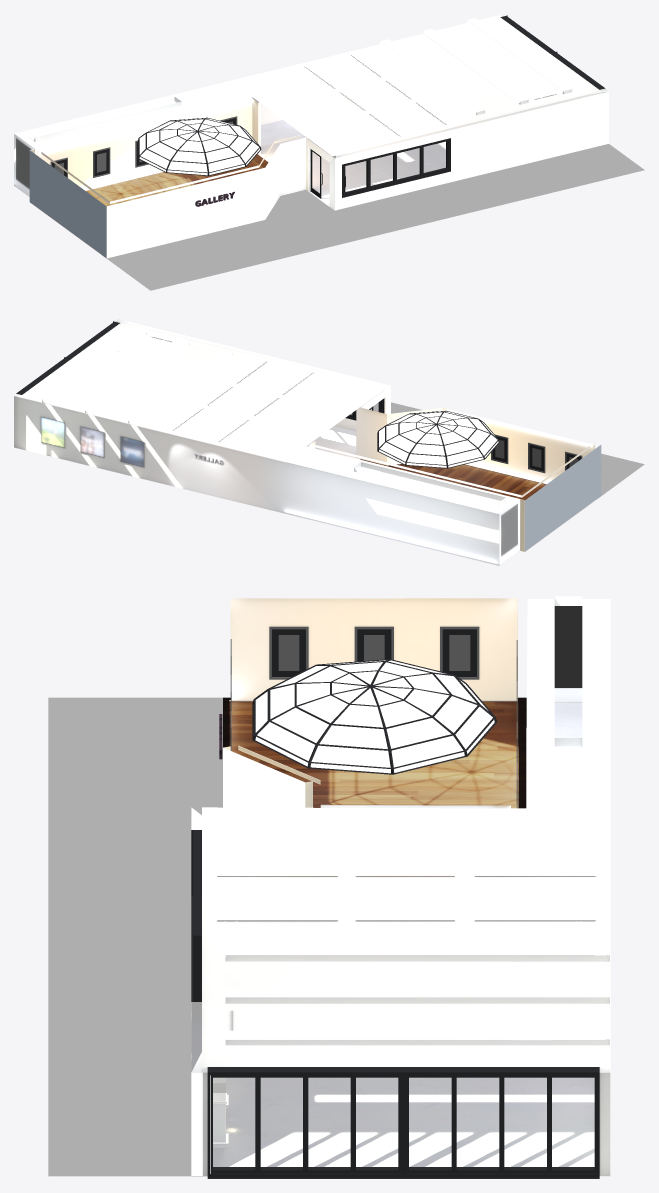
File: art-gallery16.glb
3 views of the same model, one above another, from view 1: azimuth 30°, elevation 25°; view 2: azimuth 150°, elevation 25°; view 3: azimuth 270°, elevation 25° (orthographic). The views are drawn at different scales.
Visible parts, largest first — view 1: ParedesPrincipais, Paredes, Chao_entrada.001, Sphere.002, Chao_entrada, LuzesEmission, Metais, Chao_madeira, Todos os quadros; view 2: ParedesPrincipais, Paredes, Sphere.002, LuzesEmission, Chao_madeira, Chao_entrada.001, Todos os quadros, Chao_entrada, Metais; view 3: ParedesPrincipais, Chao_entrada.001, Chao_entrada, Paredes, Sphere.002, Metais, Chao_madeira, LuzesEmission, Todos os quadros.
Part boxes in pixels (bbox=[...]): ParedesPrincipais: bbox=[14, 14, 608, 210]; Paredes: bbox=[29, 98, 334, 258]; Chao_entrada.001: bbox=[107, 144, 644, 290]; Sphere.002: bbox=[138, 117, 261, 175]; Chao_entrada: bbox=[258, 120, 445, 206]; LuzesEmission: bbox=[380, 18, 571, 111]; Metais: bbox=[310, 15, 605, 198]; Chao_madeira: bbox=[86, 154, 268, 206]; Todos os quadros: bbox=[50, 116, 237, 177]; ParedesPrincipais: bbox=[14, 319, 524, 565]; Paredes: bbox=[309, 385, 601, 551]; Sphere.002: bbox=[377, 410, 499, 468]; LuzesEmission: bbox=[42, 329, 232, 422]; Chao_madeira: bbox=[360, 459, 546, 499]; Chao_entrada.001: bbox=[350, 402, 644, 495]; Todos os quadros: bbox=[491, 434, 582, 472]; Chao_entrada: bbox=[312, 426, 360, 459]; Metais: bbox=[16, 321, 384, 439]; ParedesPrincipais: bbox=[191, 596, 610, 1175]; Chao_entrada.001: bbox=[48, 697, 222, 1176]; Chao_entrada: bbox=[191, 702, 610, 1176]; Paredes: bbox=[223, 598, 517, 808]; Sphere.002: bbox=[252, 659, 496, 774]; Metais: bbox=[191, 830, 599, 1178]; Chao_madeira: bbox=[223, 697, 526, 808]; LuzesEmission: bbox=[225, 947, 609, 1039]; Todos os quadros: bbox=[230, 606, 582, 808].
Size of what is drawn, in the model's own units: 62.24 by 8.29 by 30.8.
Materials: 20 (5 with a texture image).
